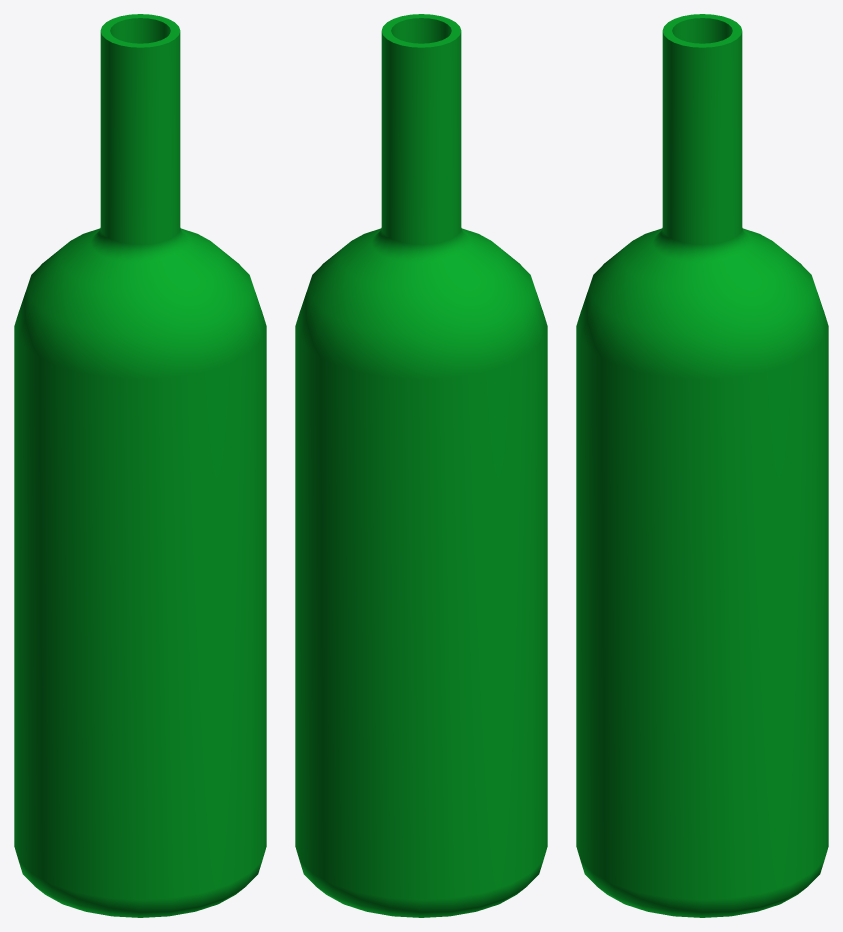
File: Glass Bottle.fbx
3 views of the same model, side by side, from view 1: azimuth 30°, elevation 25°; view 2: azimuth 150°, elevation 25°; view 3: azimuth 270°, elevation 25° (orthographic).
Visible parts, largest first — view 1: Glass Bottle Hollow; view 2: Glass Bottle Hollow; view 3: Glass Bottle Hollow.
Boxes of the visible parts, x1,y1,x2,y2 form: Glass Bottle Hollow: (14, 14, 266, 917); Glass Bottle Hollow: (295, 14, 547, 917); Glass Bottle Hollow: (576, 14, 828, 917).
Bounding box in the file's own units: 200 × 738 × 200.
